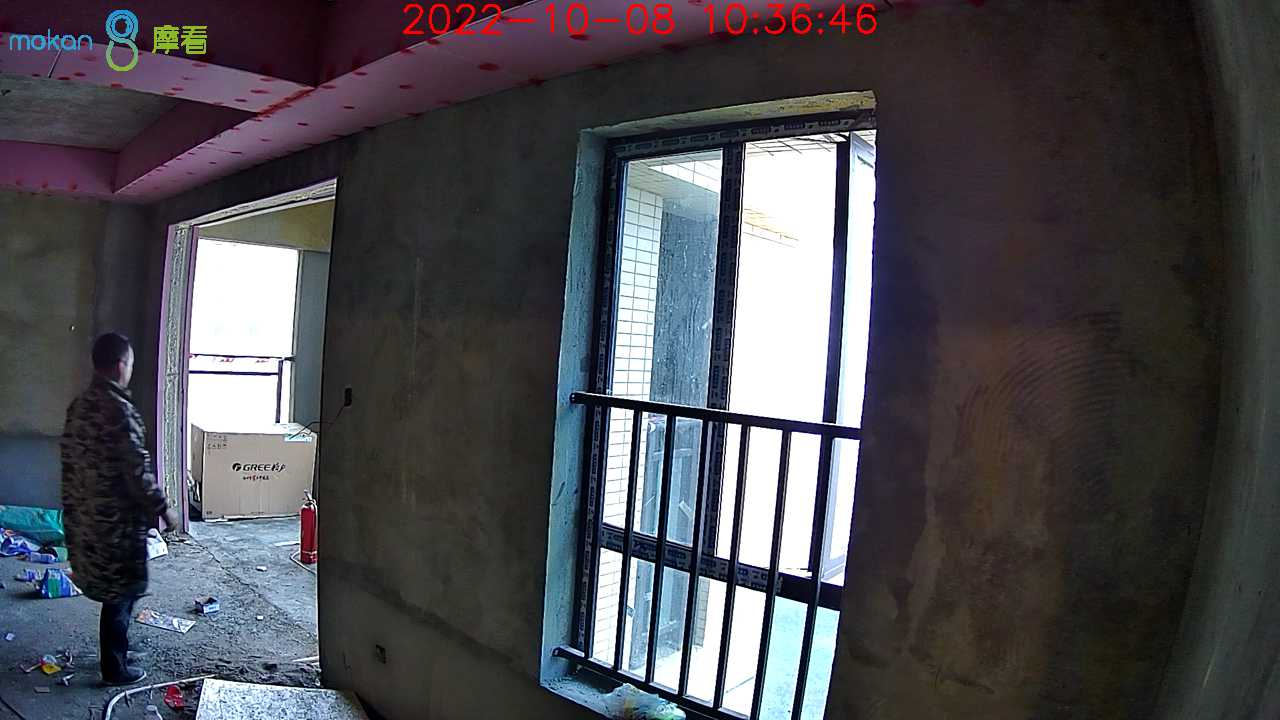people: (62, 334, 177, 682)
window: (557, 120, 875, 720)
